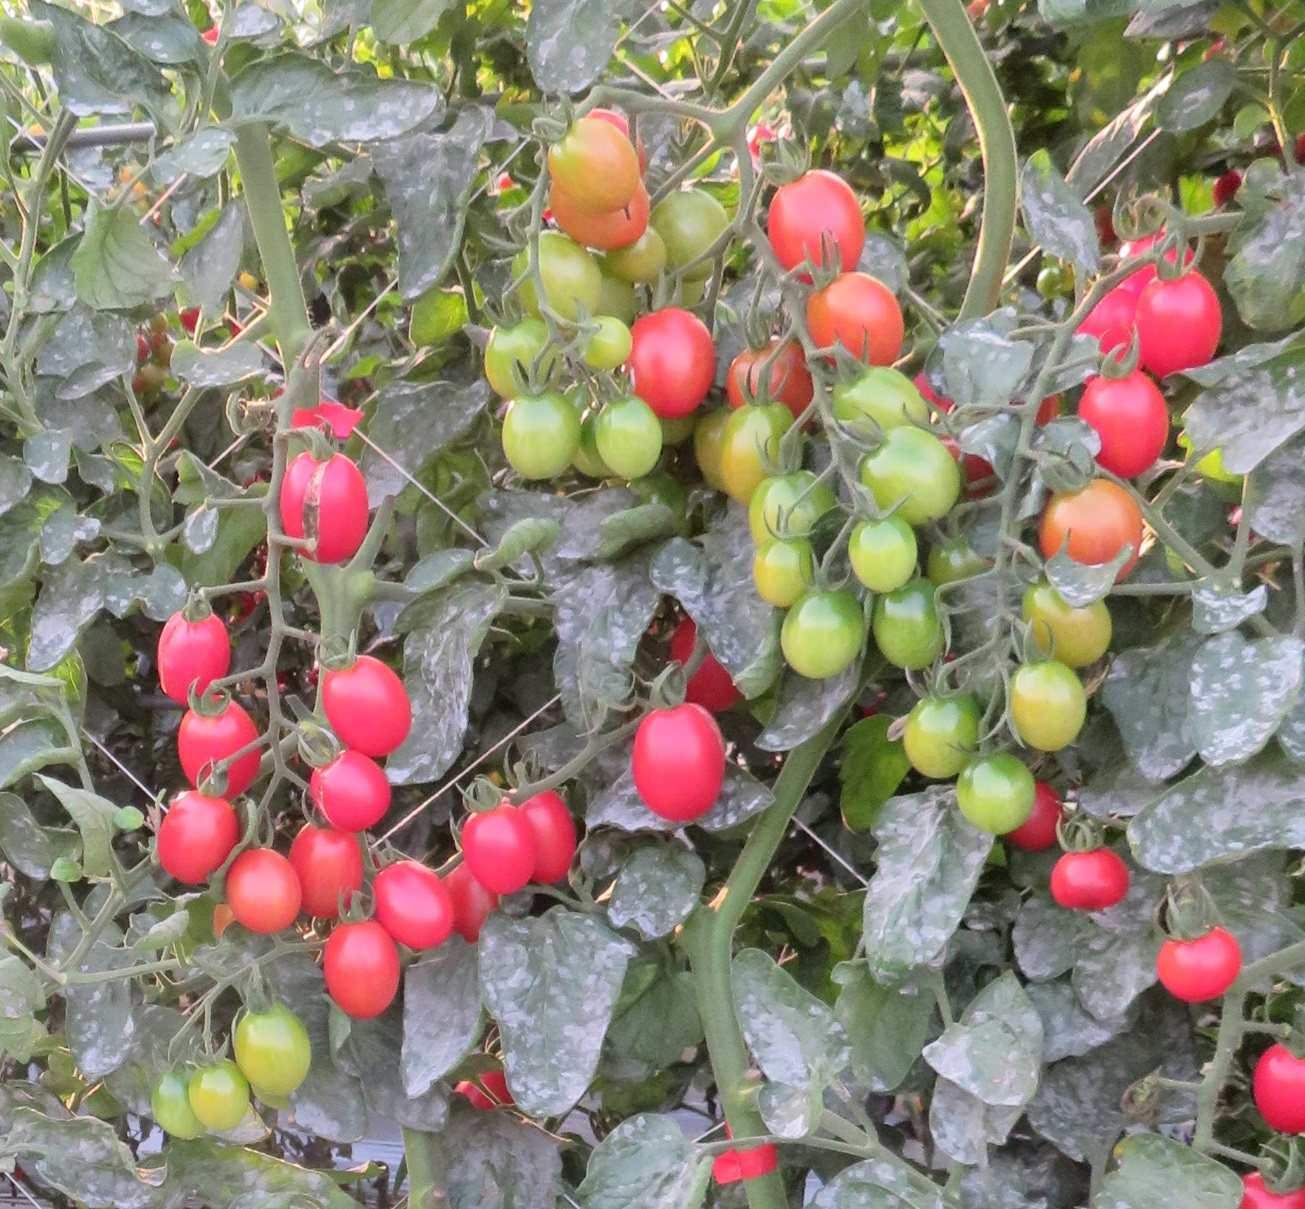green: (998, 658, 1099, 765), (854, 426, 967, 514), (773, 590, 867, 689), (811, 264, 904, 364), (710, 400, 804, 499), (1023, 581, 1123, 668), (543, 111, 642, 199), (236, 997, 311, 1103), (502, 384, 579, 489), (892, 683, 973, 779), (517, 228, 591, 333), (591, 390, 662, 490), (873, 583, 948, 675), (741, 476, 836, 545), (662, 181, 728, 275), (949, 758, 1031, 833), (831, 362, 934, 418), (848, 508, 912, 594), (188, 1058, 247, 1143), (487, 320, 559, 384), (749, 544, 812, 615), (573, 315, 635, 369), (149, 1065, 191, 1140)
orange: (1034, 474, 1146, 581), (224, 836, 299, 933), (549, 181, 651, 251)
red: (1074, 365, 1181, 486), (633, 701, 728, 834), (274, 450, 369, 567), (149, 784, 249, 889), (1133, 270, 1228, 376), (156, 590, 234, 714), (173, 695, 267, 797), (772, 165, 859, 270), (641, 295, 723, 406), (316, 914, 398, 1024), (283, 806, 364, 914), (324, 654, 412, 753), (368, 856, 458, 944), (1154, 934, 1252, 1011), (462, 804, 542, 895), (670, 616, 746, 708), (316, 751, 386, 829), (521, 789, 577, 883), (1042, 853, 1129, 911), (1246, 1039, 1305, 1118), (449, 862, 500, 945), (1006, 781, 1061, 848)
